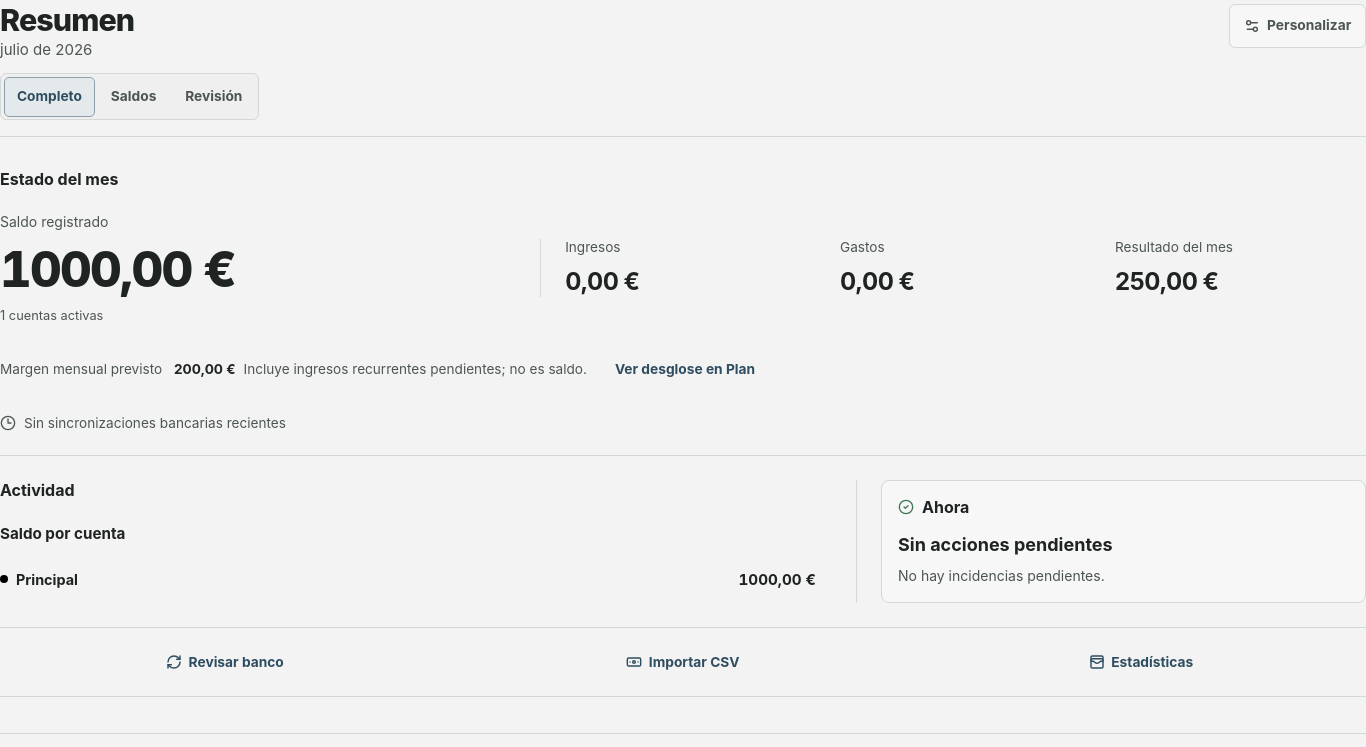
it: dashboard architecture › mantiene enfocado el control de orden al mover un módulo
Later steps or results of the test are not shown.
Click the button "Personalizar".
click(1298, 26)  # box [1229, 4, 1365, 48]
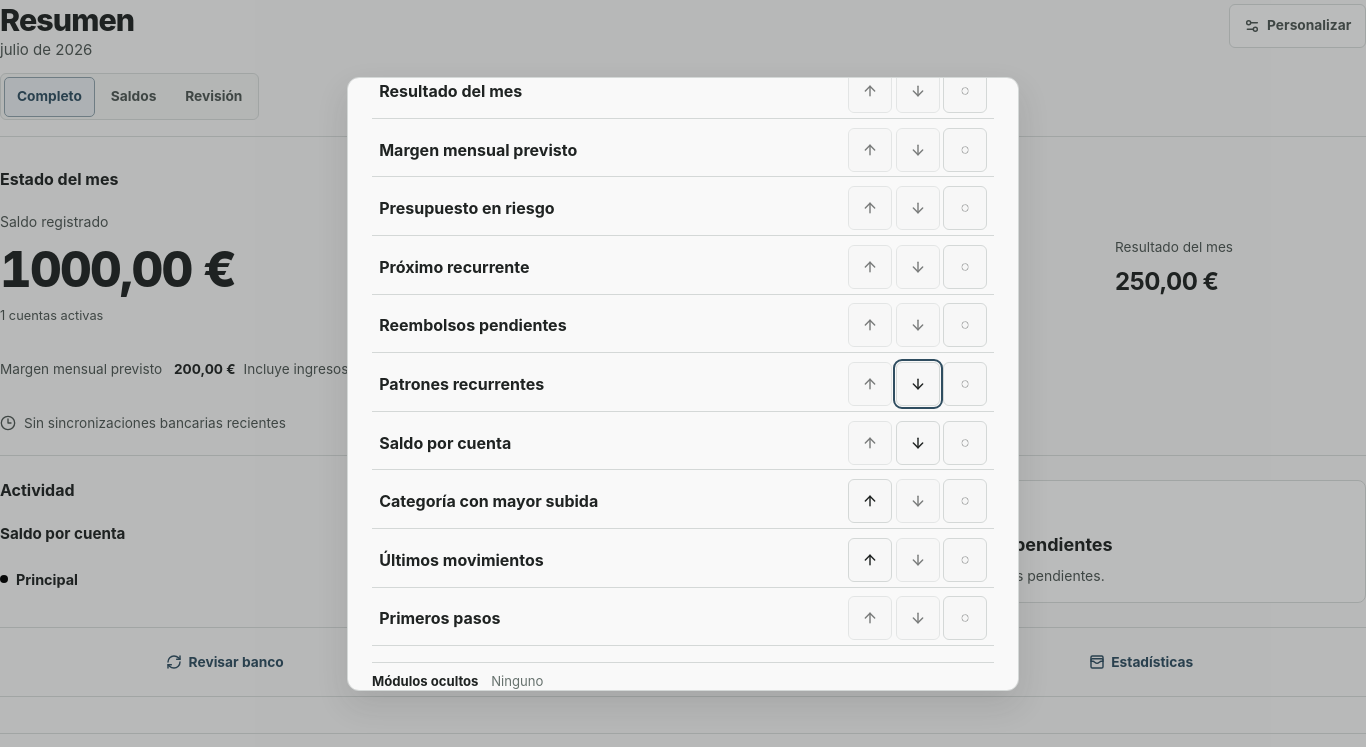
Now the button named "Bajar Patrones recurrentes" is shown, box [896, 362, 940, 406]
